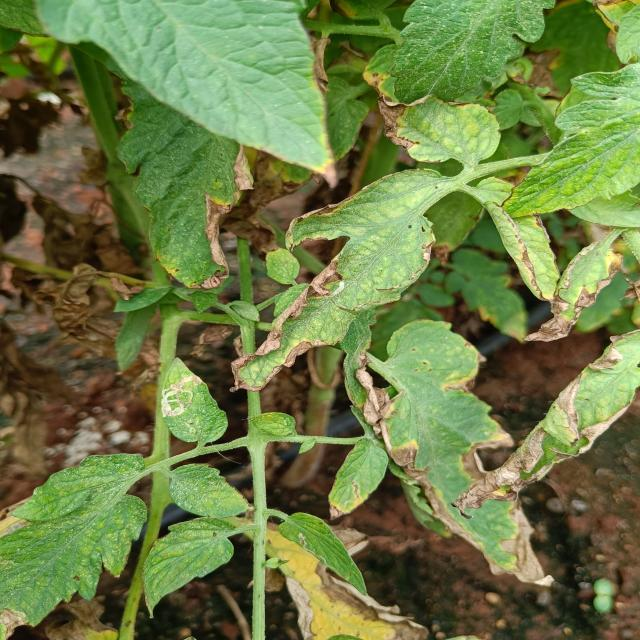Tomato mosaic virus leaf: (228, 196, 439, 394), (516, 238, 632, 348), (370, 90, 504, 166)
